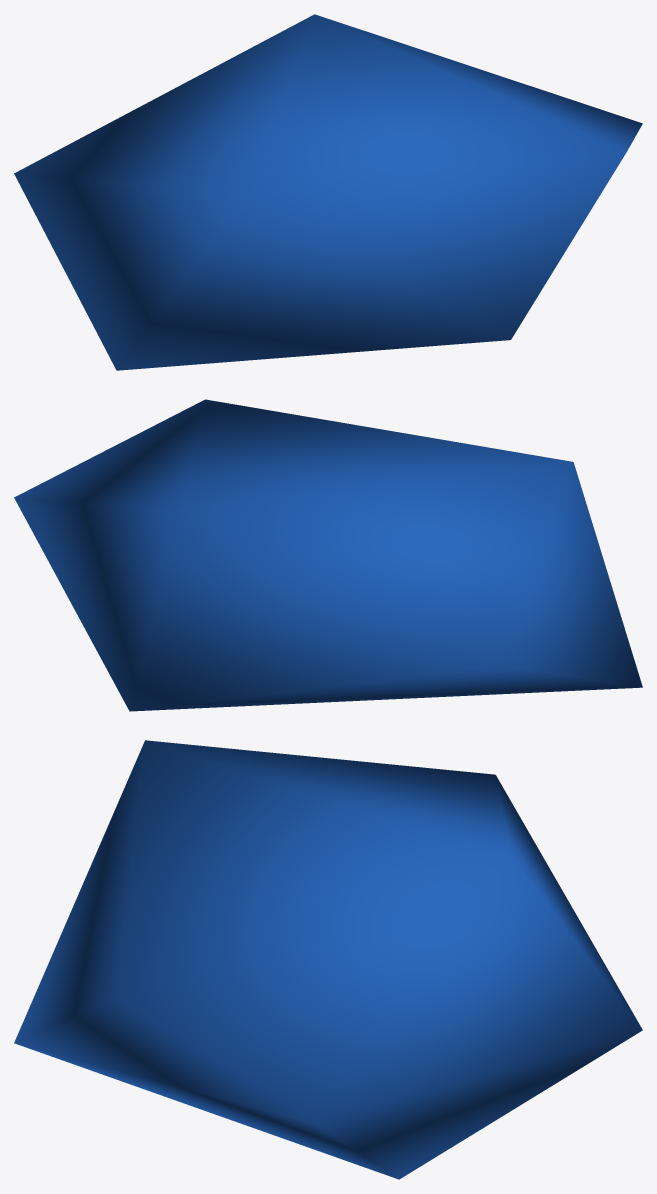
File: bean_bag_lod2.glb
3 views of the same model, one above another, from view 1: azimuth 30°, elevation 25°; view 2: azimuth 150°, elevation 25°; view 3: azimuth 270°, elevation 25° (orthographic). The views are drawn at different scales.
Parts seen in each view (by area): view 1: bean_bag__prop_blue; view 2: bean_bag__prop_blue; view 3: bean_bag__prop_blue.
Part boxes in pixels (x1,y1,x2,y2): bean_bag__prop_blue: (14, 14, 642, 370); bean_bag__prop_blue: (14, 399, 642, 711); bean_bag__prop_blue: (14, 740, 642, 1179).
Size of the model in its own units: 0.1171 by 0.0435 by 0.0957.
